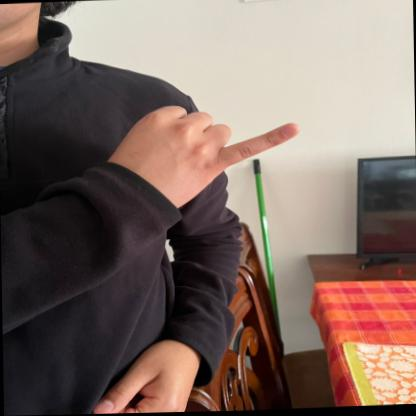J: (106, 93, 303, 209)
